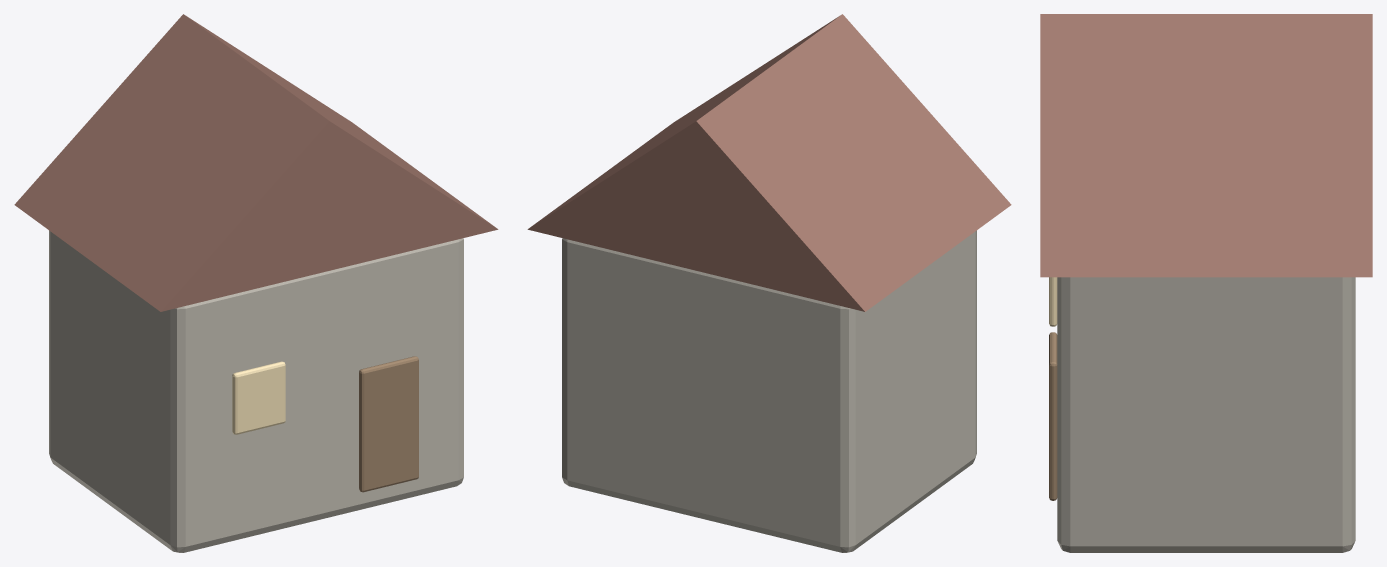
The model's file is cottage.glb.
3 views of the same model, side by side, from view 1: azimuth 30°, elevation 25°; view 2: azimuth 150°, elevation 25°; view 3: azimuth 270°, elevation 25° (orthographic). The views are drawn at different scales.
Visible parts, largest first — view 1: cottage_Palette, cottage_Glow; view 2: cottage_Palette; view 3: cottage_Palette, cottage_Glow.
Boxes of the visible parts, bbox=[...] form: cottage_Palette: bbox=[14, 14, 498, 552]; cottage_Glow: bbox=[232, 361, 285, 434]; cottage_Palette: bbox=[527, 14, 1011, 552]; cottage_Palette: bbox=[1040, 14, 1372, 552]; cottage_Glow: bbox=[1049, 277, 1057, 326].
Size of the model in its own units: 1.04 by 1.2 by 0.78.
